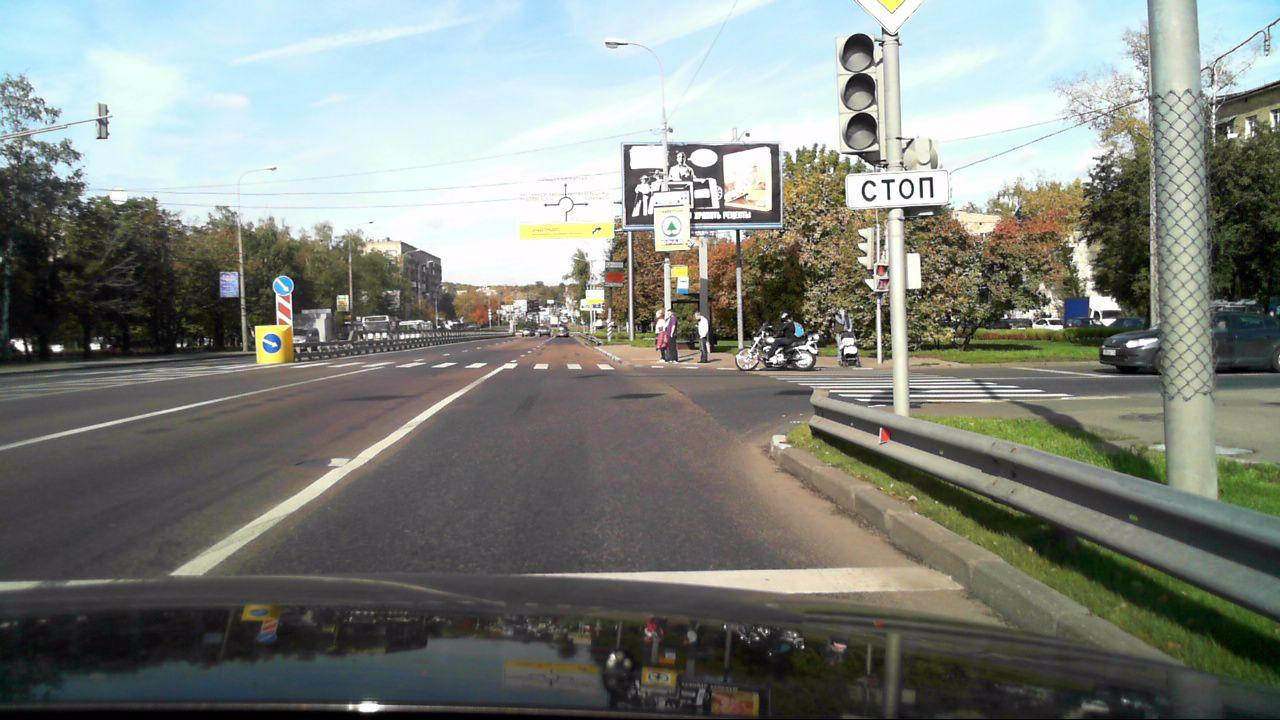2_1: (847, 0, 930, 29)
4_2_1: (272, 274, 294, 294), (262, 333, 283, 353)
5_16: (678, 275, 690, 294)
6_10_1: (515, 172, 615, 223)
6_16: (846, 169, 953, 208)
8_22_1: (276, 293, 293, 328)
